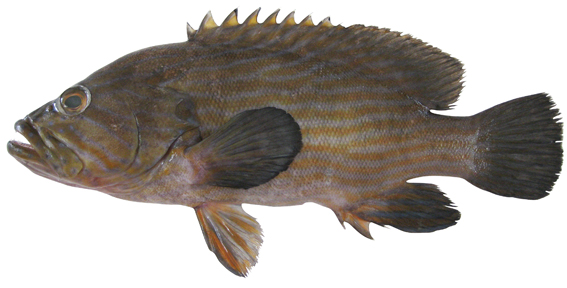fish: (8, 7, 564, 277)
